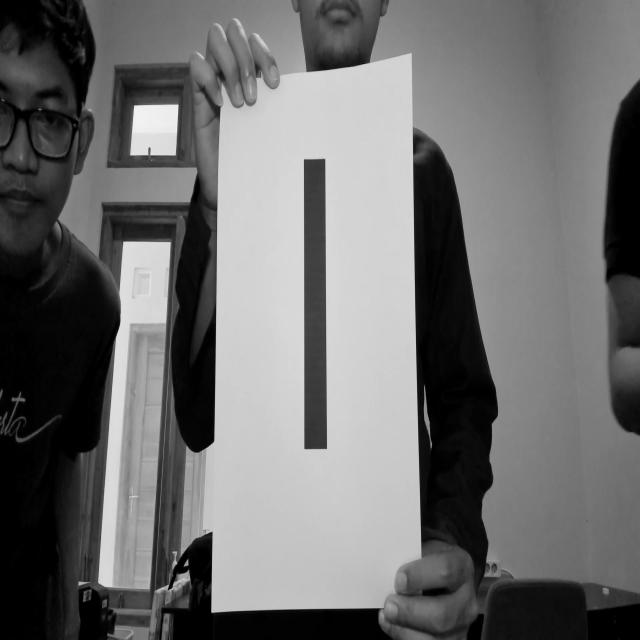i: (290, 150, 340, 477)
